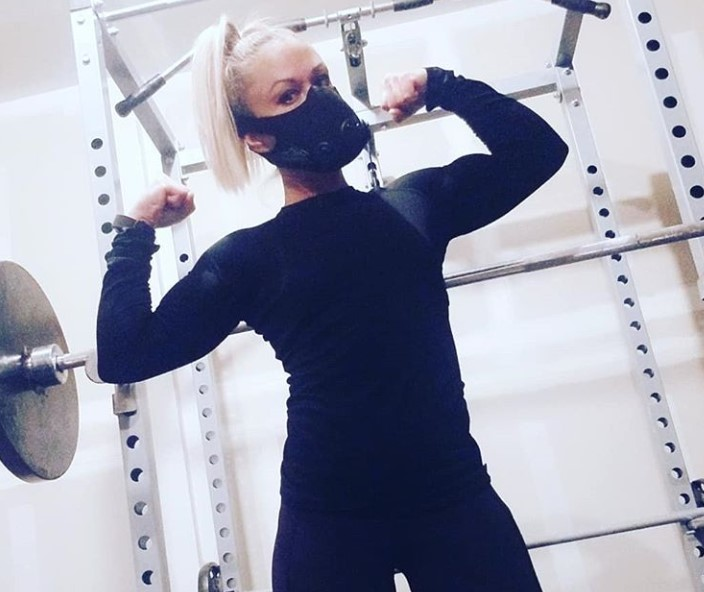face_with_mask: (224, 30, 372, 177)
